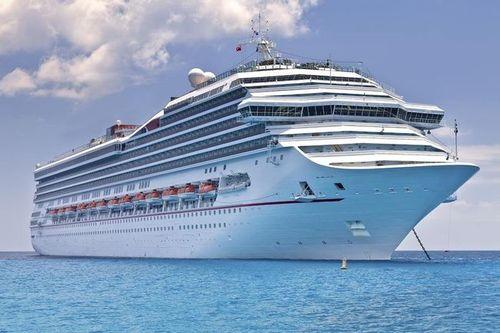Ship: (28, 55, 484, 261)
